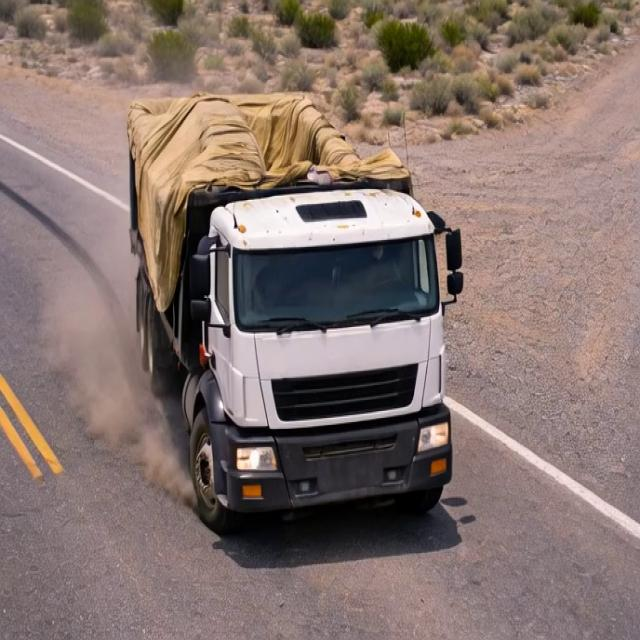trailer: (124, 91, 420, 202)
truck: (100, 49, 473, 550)
